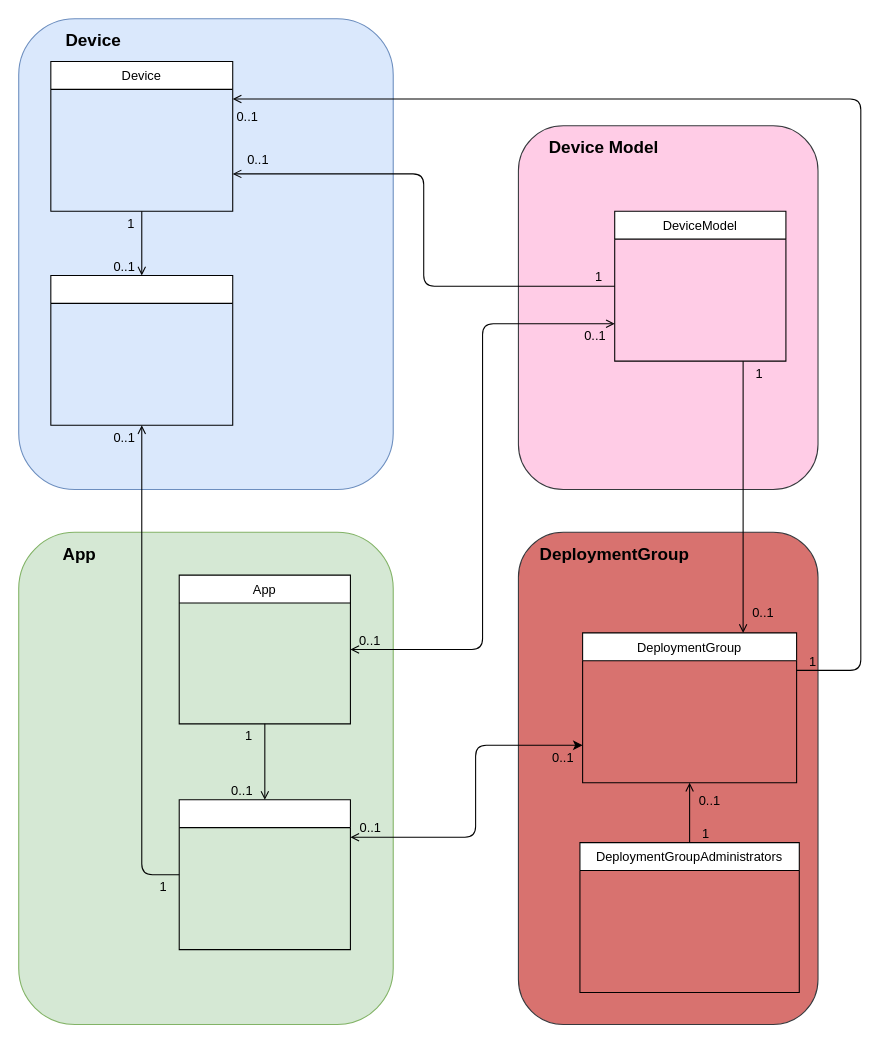
The diagram is 888 pixels wide and 1043 high, and some of its shapes have lost their labels. The shapes that lost their labels are listed below. From the top down, each one's box as (x1, y1, x2, y2) in pixels, then its label:
(50, 274, 233, 425): DeviceInstallState
(178, 799, 350, 950): AppVersion
